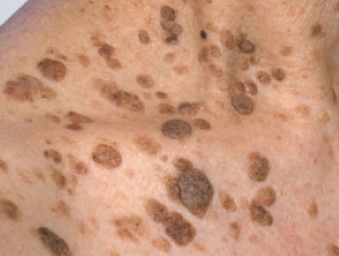seborrheic keratosis: (33, 16, 255, 233)
